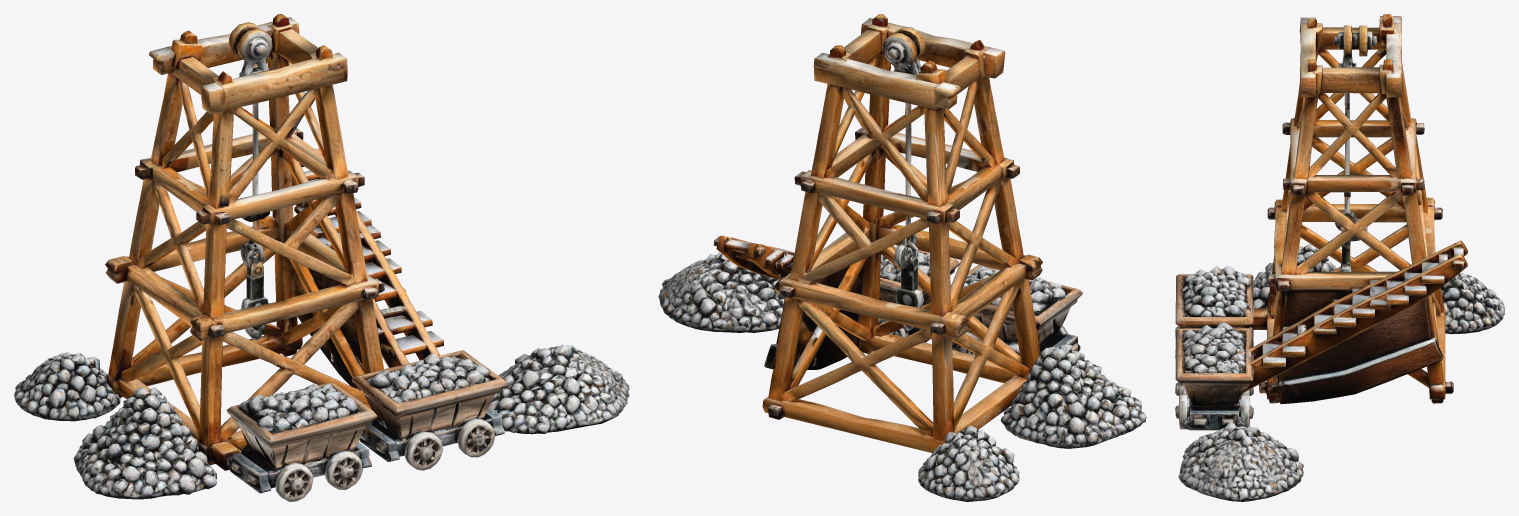
Rendered from mine.glb.
3 views of the same model, side by side, from view 1: azimuth 30°, elevation 25°; view 2: azimuth 150°, elevation 25°; view 3: azimuth 270°, elevation 25° (orthographic). The views are drawn at different scales.
Visible parts, largest first — view 1: mine; view 2: mine; view 3: mine.
Boxes of the visible parts, x1=… form: mine: x1=14, y1=14, x2=629, y2=501; mine: x1=658, y1=14, x2=1146, y2=501; mine: x1=1175, y1=14, x2=1504, y2=501.
Bounding box in the file's own units: 1.37 × 1 × 0.8644.
1 material, 1 textured.
